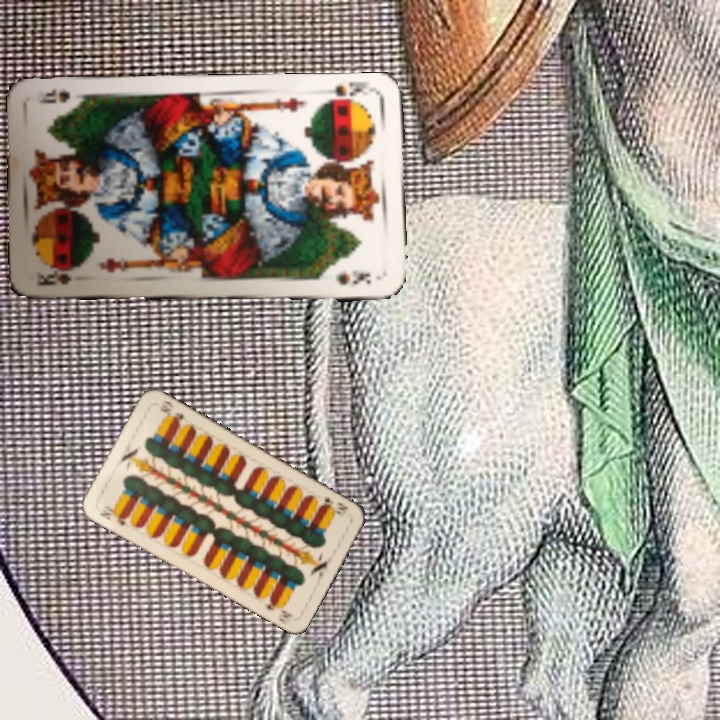E10: (95, 504, 130, 528), (318, 493, 350, 519)
SK: (321, 79, 380, 107), (34, 269, 74, 289)
